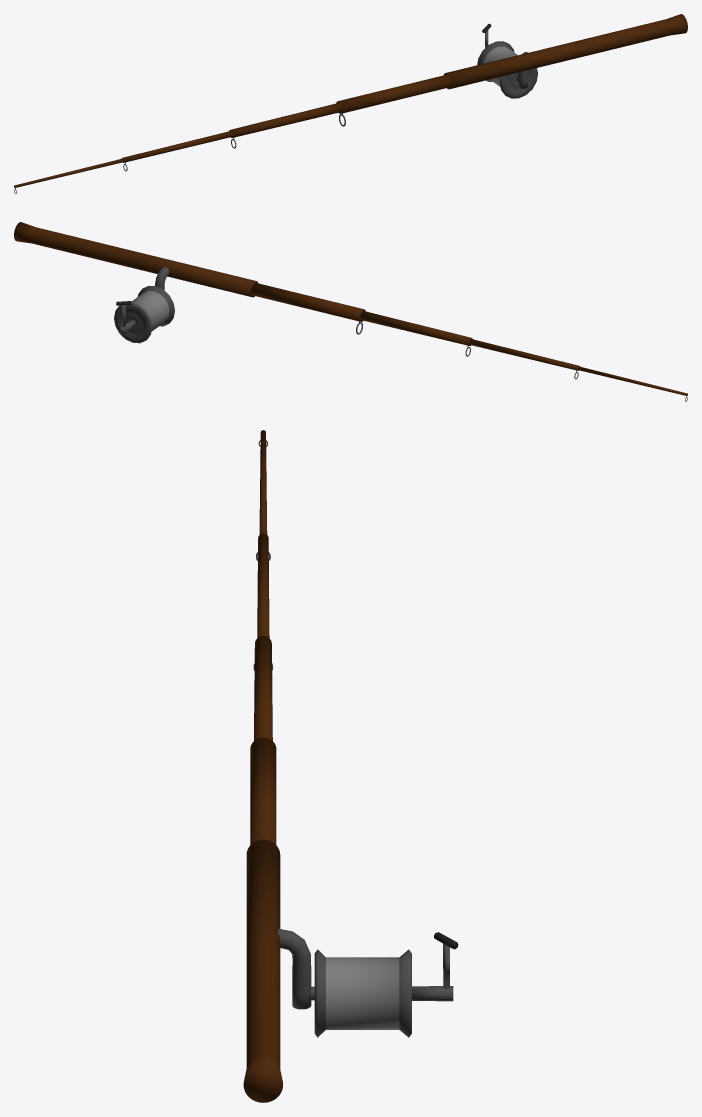
The model's file is FishingRod.fbx.
The picture shows the model from 3 angles, top to bottom: view 1: azimuth 30°, elevation 25°; view 2: azimuth 150°, elevation 25°; view 3: azimuth 270°, elevation 25°; orthographic projection. The views are drawn at different scales.
Parts seen in each view (by area): view 1: Rod, Reel; view 2: Rod, Reel, ReelHandle; view 3: Rod, Reel, ReelSeat, ReelHandle.
Boxes of the visible parts, x1=… form: Rod: x1=14, y1=14, x2=687, y2=187; Reel: x1=477, y1=41, x2=537, y2=98; Rod: x1=14, y1=222, x2=687, y2=395; Reel: x1=114, y1=286, x2=174, y2=343; ReelHandle: x1=116, y1=301, x2=136, y2=334; Rod: x1=243, y1=430, x2=282, y2=1102; Reel: x1=314, y1=949, x2=411, y2=1037; ReelSeat: x1=277, y1=929, x2=314, y2=1009; ReelHandle: x1=412, y1=932, x2=458, y2=1001.
Size of the model in its own units: 3089 by 251 by 430.
